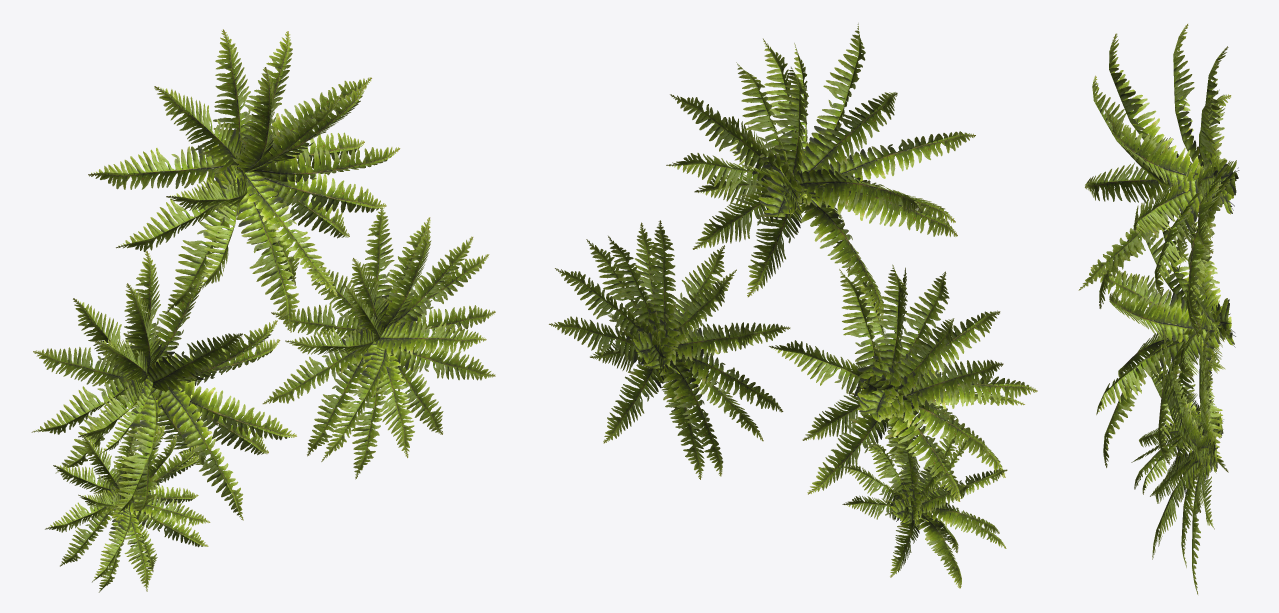
File: fern-grass-02-93d1f6.glb
3 renders of one model, left to right at view 1: azimuth 30°, elevation 25°; view 2: azimuth 150°, elevation 25°; view 3: azimuth 270°, elevation 25°, orthographic. The views are drawn at different scales.
Parts seen in each view (by area): view 1: PropMesh; view 2: PropMesh; view 3: PropMesh.
Boxes of the visible parts, left/top/right/bottom form: PropMesh: left=31, top=29, right=495, bottom=592; PropMesh: left=549, top=23, right=1037, bottom=588; PropMesh: left=1078, top=24, right=1239, bottom=594.
Size of the model in its own units: 2.04 by 2.2 by 0.7161.
Materials: 1 (1 with a texture image).
